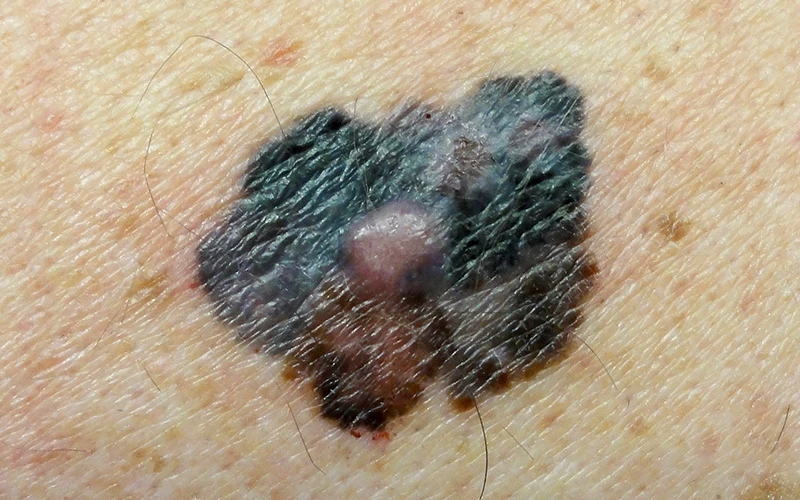Melanoma: (191, 71, 598, 433)
